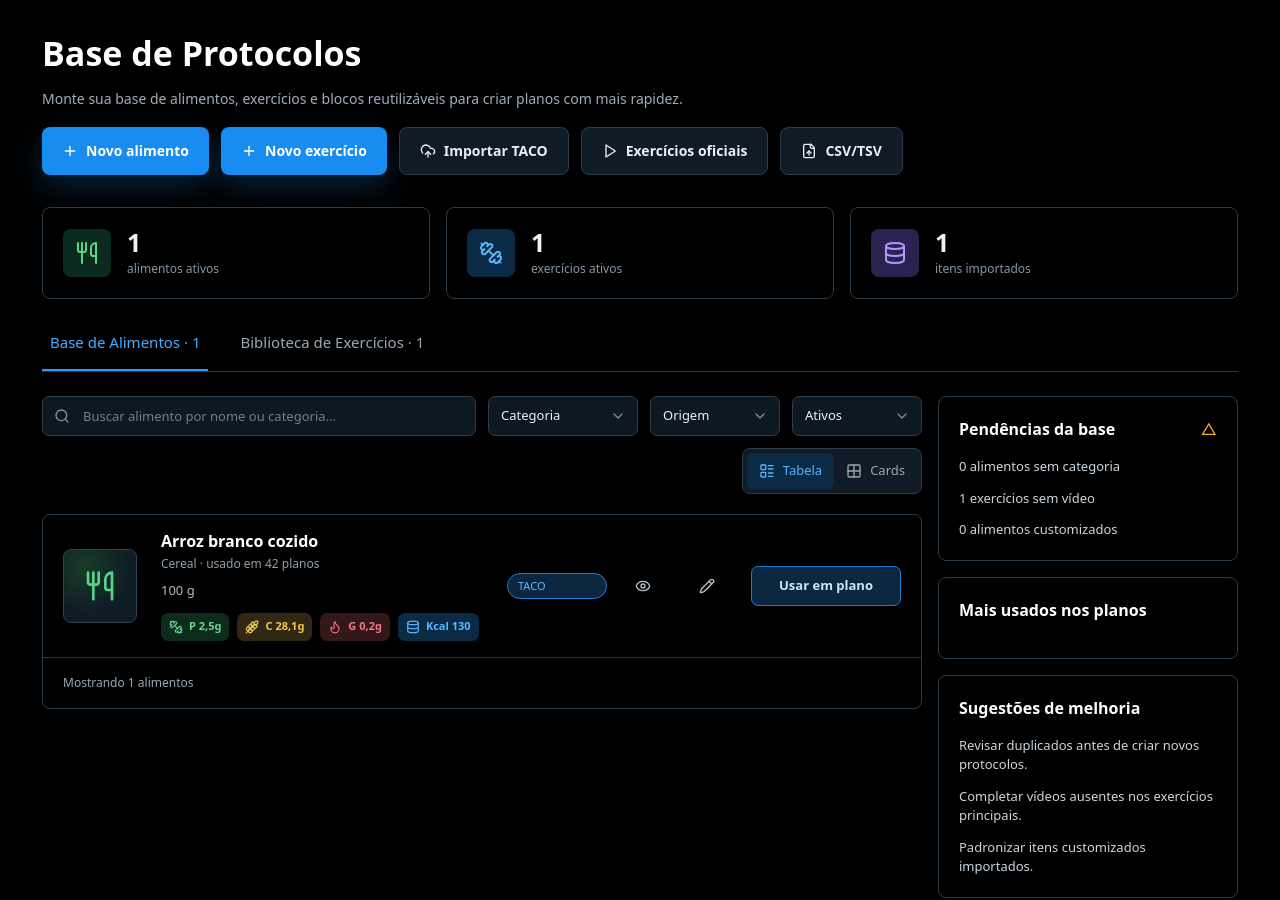
Test: PartnerProtocolsView › renderiza Cadastro sem Pacientes ou Cardio e alterna para exercícios
The image size is (1280, 900).
expect the heading "Base de Protocolos" is shown: met, box x1=42 y1=30 x2=362 y2=76
expect the text "Arroz branco cozido" is shown: met, box x1=161 y1=530 x2=318 y2=552
Step 1. Click the button "Biblioteca de Exercícios · 1" → click(332, 351), box x1=232 y1=330 x2=432 y2=371
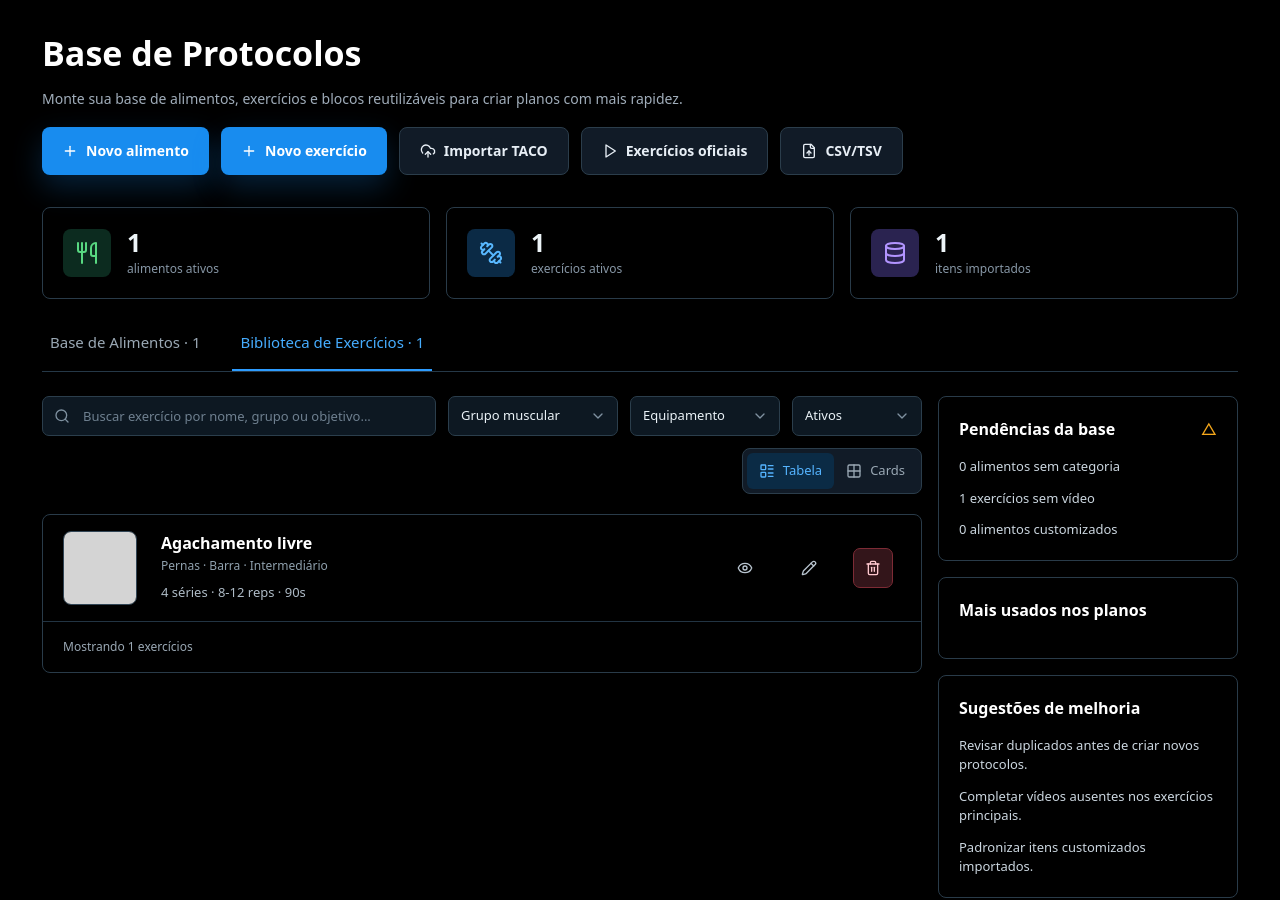
expect the text "Agachamento livre" is shown: met, box x1=161 y1=532 x2=312 y2=554
